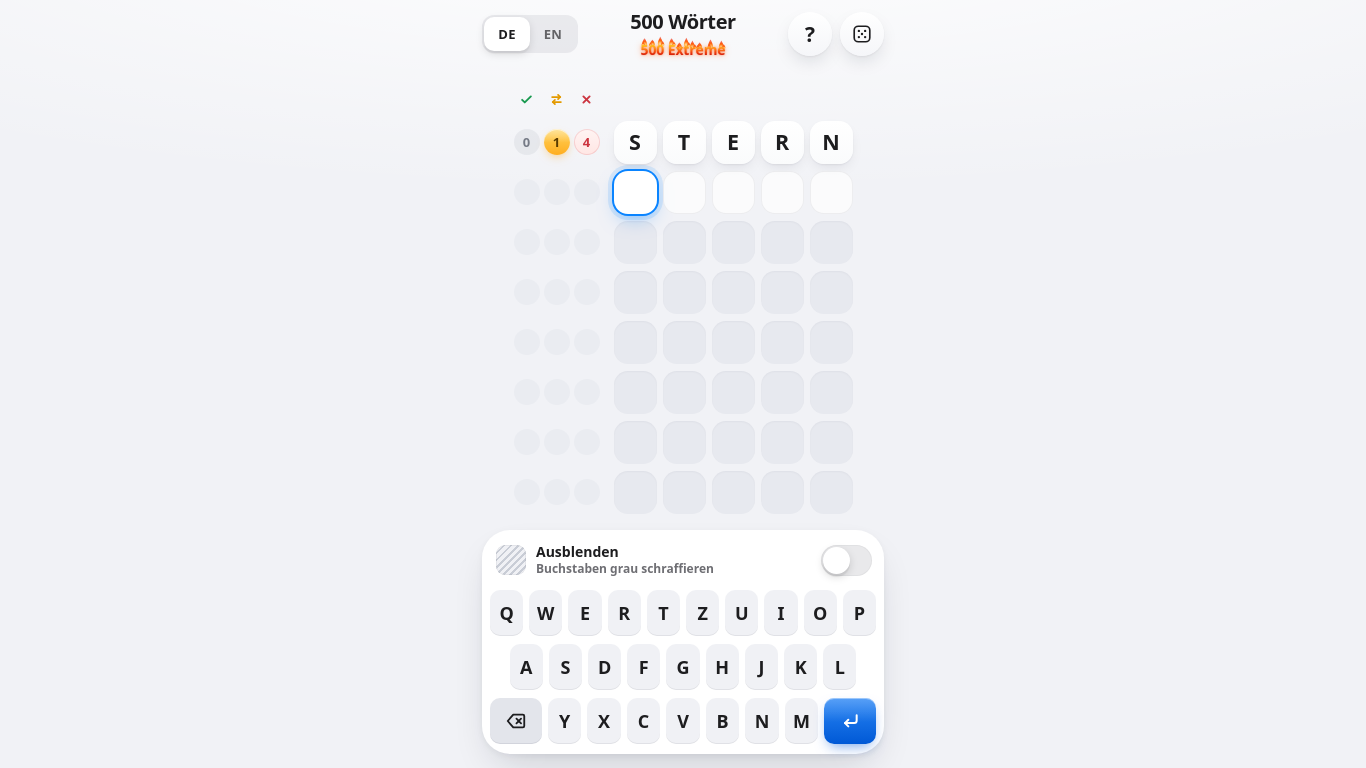
Test: Würfel und Sprache › fragt bei laufender Runde nach, Abbrechen lässt alles stehen
Click the button named "Neues Wort würfeln" at coordinates (862, 34), box [840, 12, 884, 56]
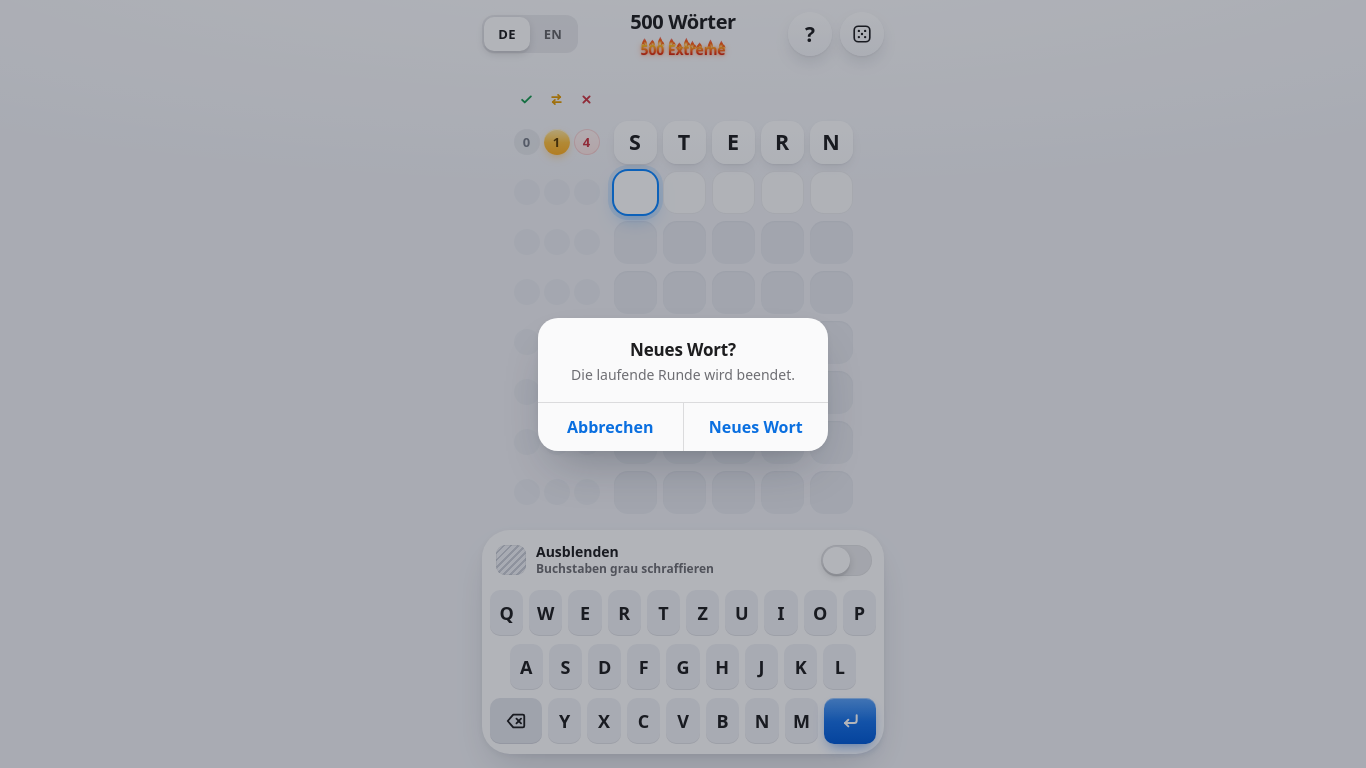
Result: the text "Die laufende Runde wird beendet." is shown at [556, 366, 810, 384]
Click the button "Abbrechen" at coordinates (610, 426), box [538, 402, 682, 450]
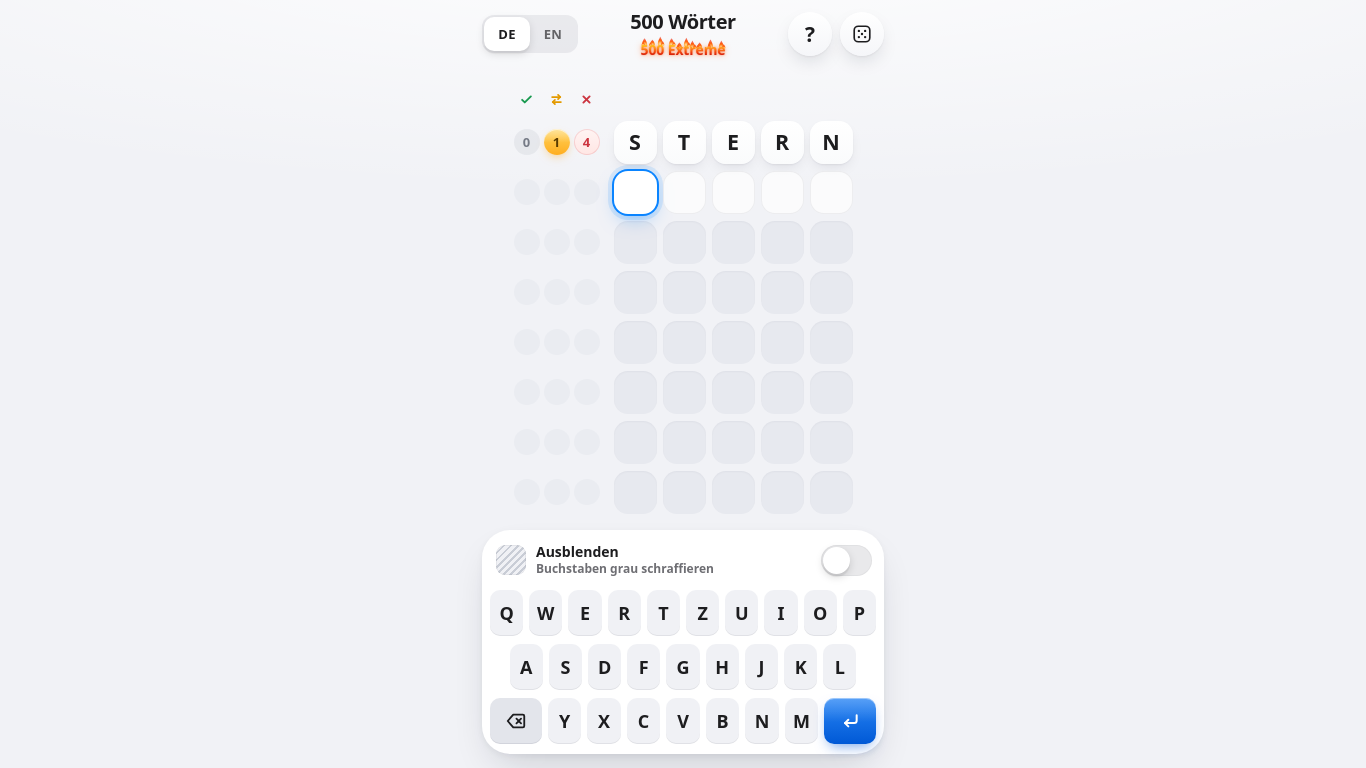
Result: the dialog is gone
Click the button named "Neues Wort würfeln" at coordinates (862, 34), box [840, 12, 884, 56]
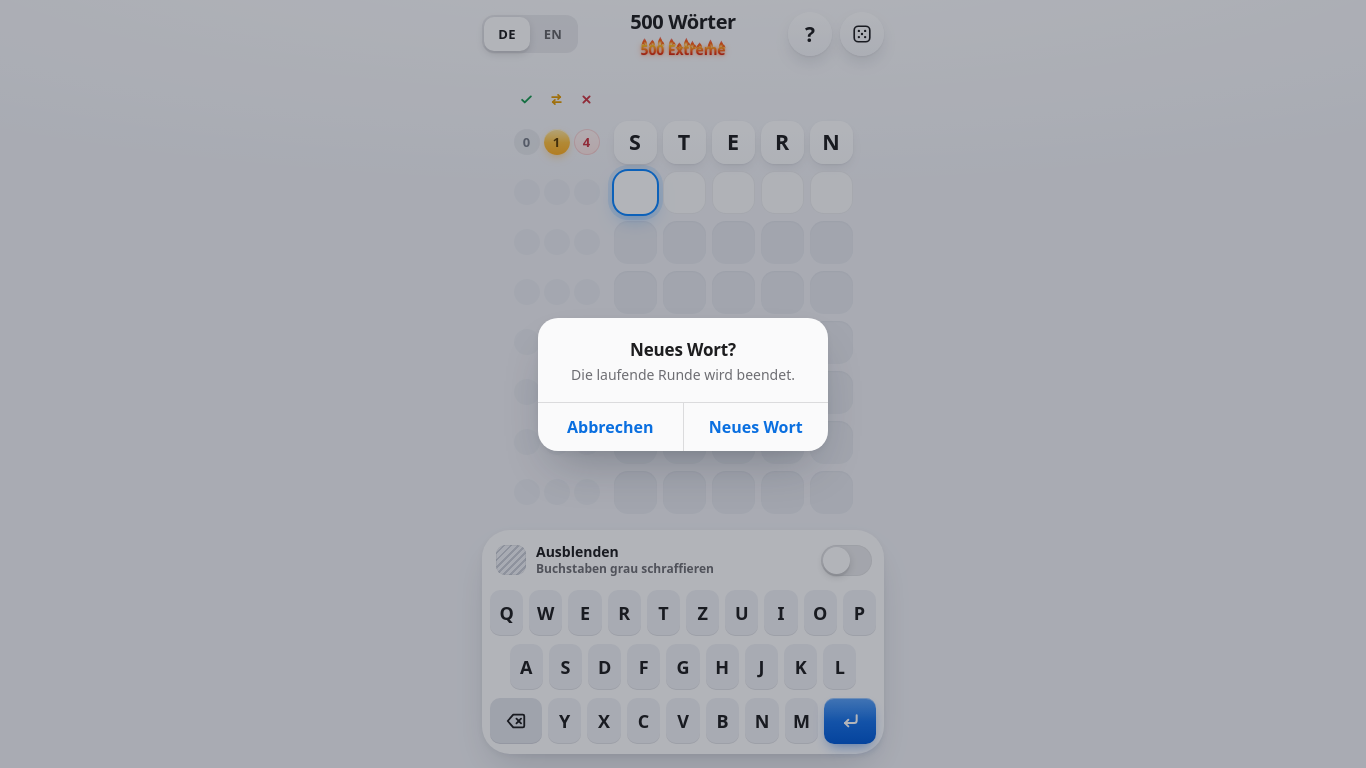
Click the button "Neues Wort" at coordinates (755, 426), box [682, 402, 828, 450]
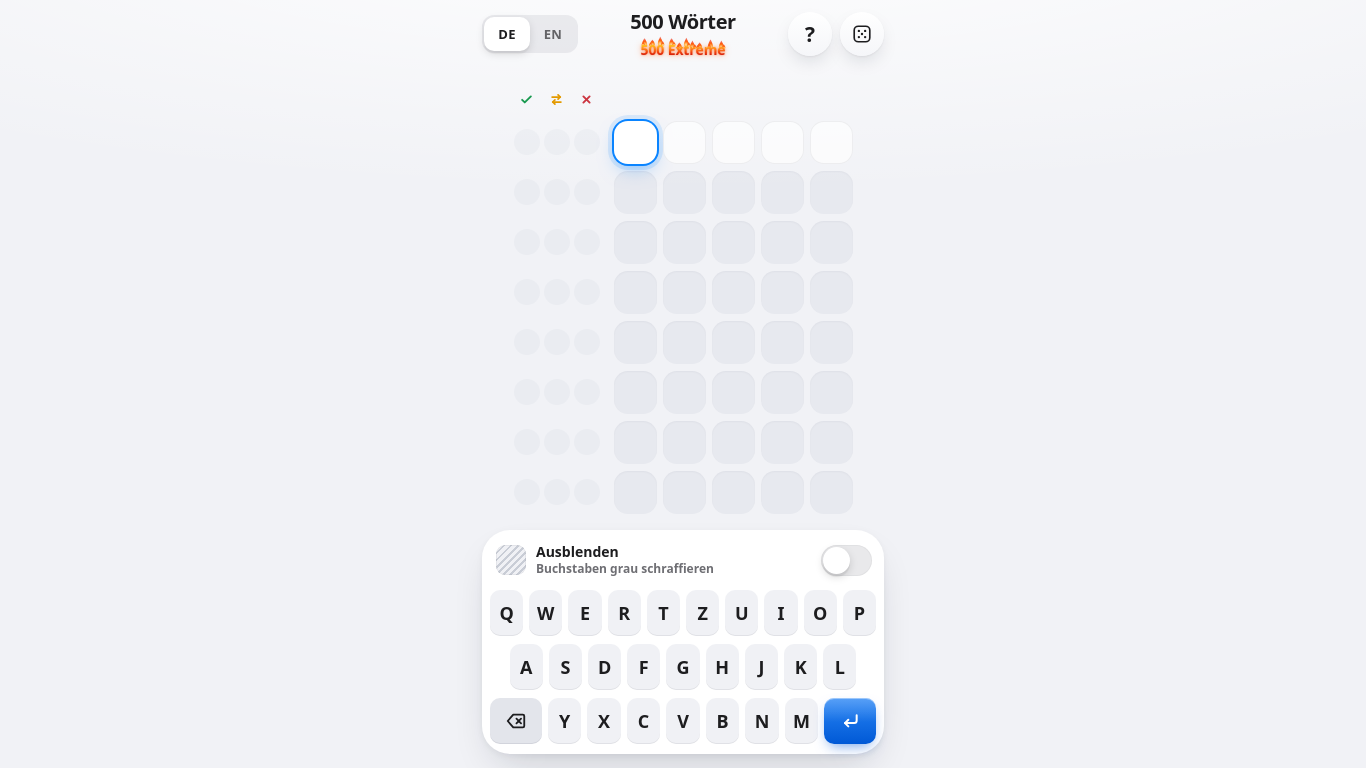
Result: the dialog is gone
